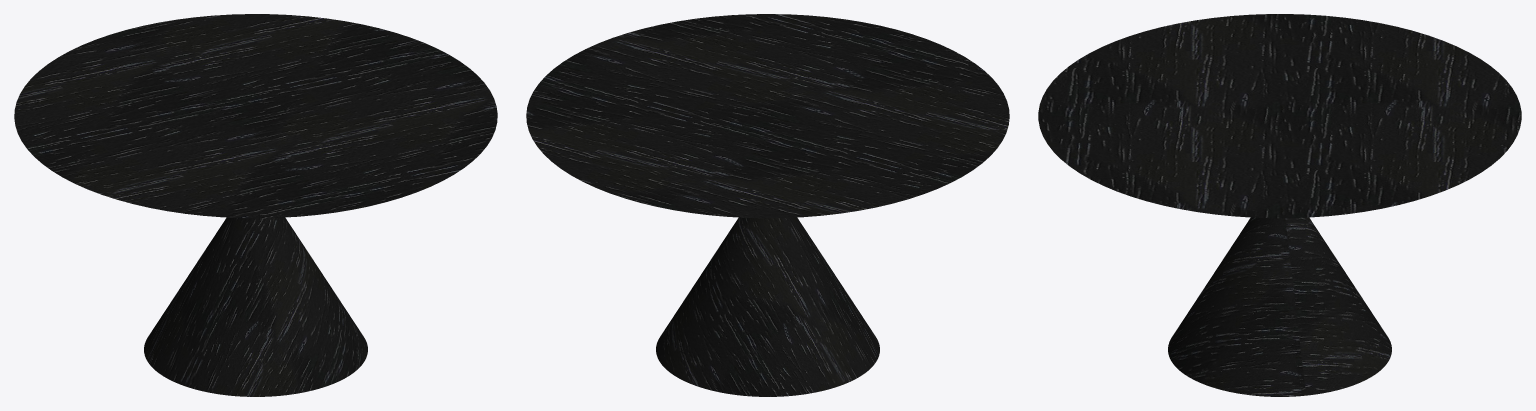
File: giratoria.glb
3 views of the same model, side by side, from view 1: azimuth 30°, elevation 25°; view 2: azimuth 150°, elevation 25°; view 3: azimuth 270°, elevation 25° (orthographic).
Parts seen in each view (by area): view 1: Group1; view 2: Group1; view 3: Group1.
Boxes of the visible parts, x1,y1,x2,y2 form: Group1: (14, 14, 497, 396); Group1: (526, 14, 1009, 396); Group1: (1038, 14, 1521, 396).
Bounding box in the file's own units: 1.4 × 0.746 × 1.4.
5 materials, 4 textured.
